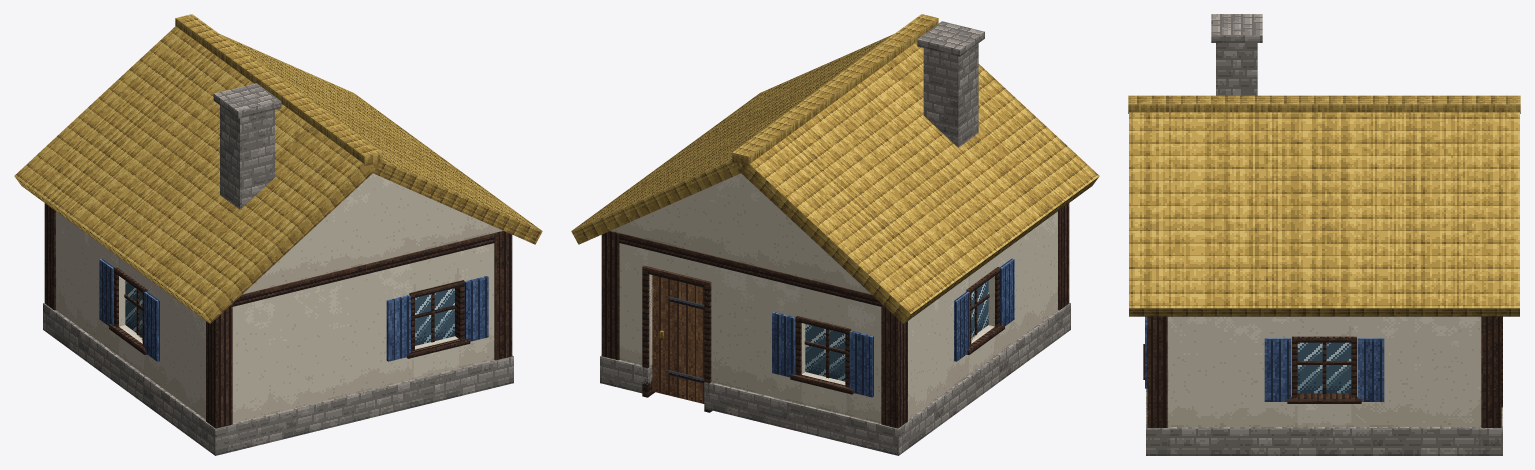
The model's file is cottage.glb.
3 renders of one model, left to right at view 1: azimuth 30°, elevation 25°; view 2: azimuth 150°, elevation 25°; view 3: azimuth 270°, elevation 25°, orthographic. The views are drawn at different scales.
Parts seen in each view (by area): view 1: cottage; view 2: cottage; view 3: cottage.
Boxes of the visible parts, x1,y1,x2,y2 form: cottage: (14,14,542,455); cottage: (571,14,1099,455); cottage: (1128,14,1520,455).
Bounding box in the file's own units: 6.03 × 5.27 × 5.82.
8 materials, 8 textured.
